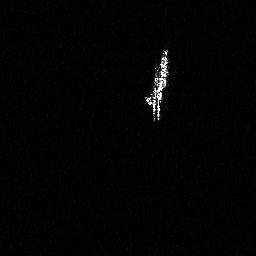ship: (144, 45, 169, 124)
